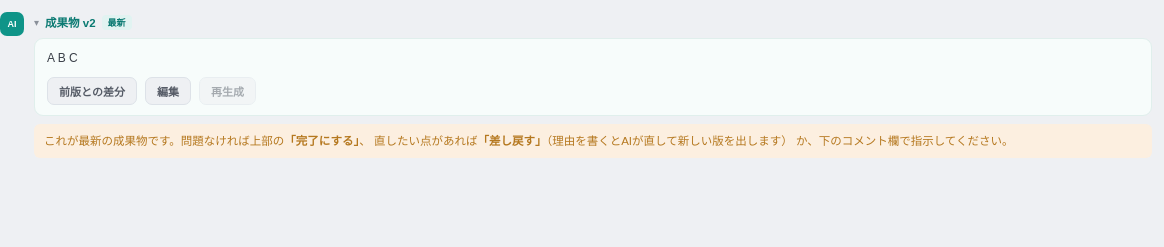
Test case: ArtifactMessage › 前版があれば差分トグルで前版との差分を表示する（#20）
This screenshot has width=1164, height=247.
What coordinates should you click on to do the following:
click the button "前版との差分"
I would click on:
 (92, 91)
Its box is [47,77,137,105].
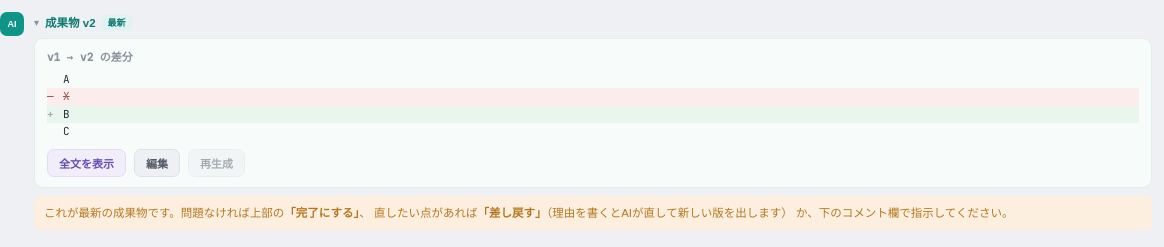
Check: the text "v1 → v2 の差分" is shown, box [47,50,133,64]
